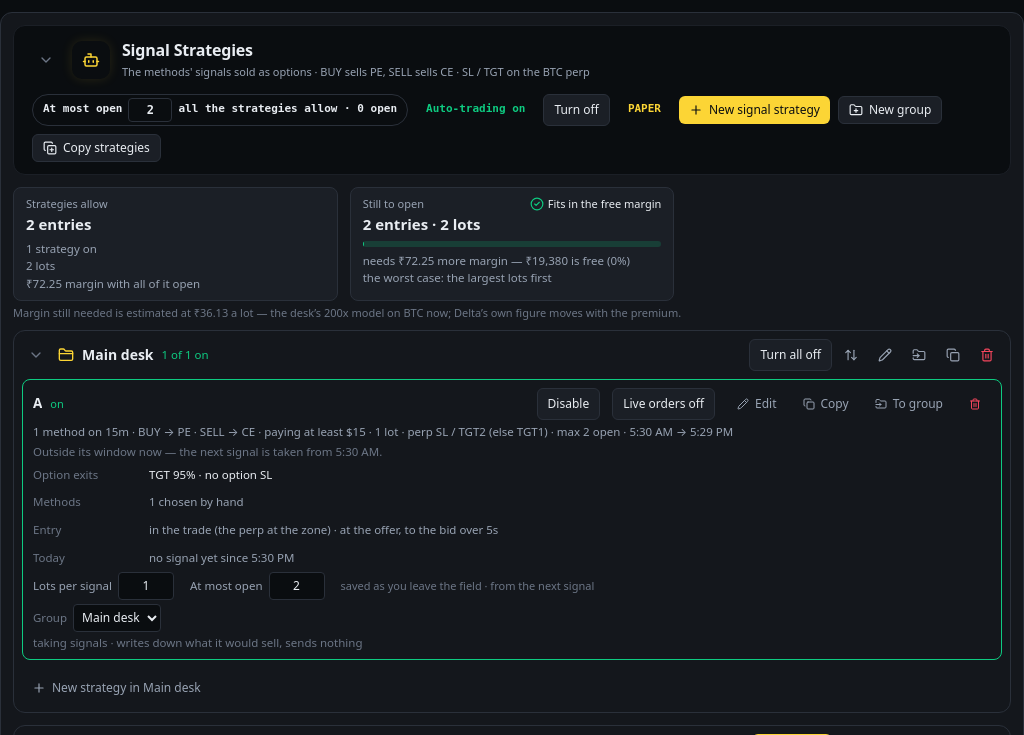
it: copying strategies into a group: from any account and group, into one that exists or a new one › [critical] several strategies of another account, a whole group picked at once, into a group that exists
Expected: the element named "group Main desk" is shown, [13,330,1011,713]
Click the button "Copy strategies" at x=96, y=148, box [32,134,161,162]
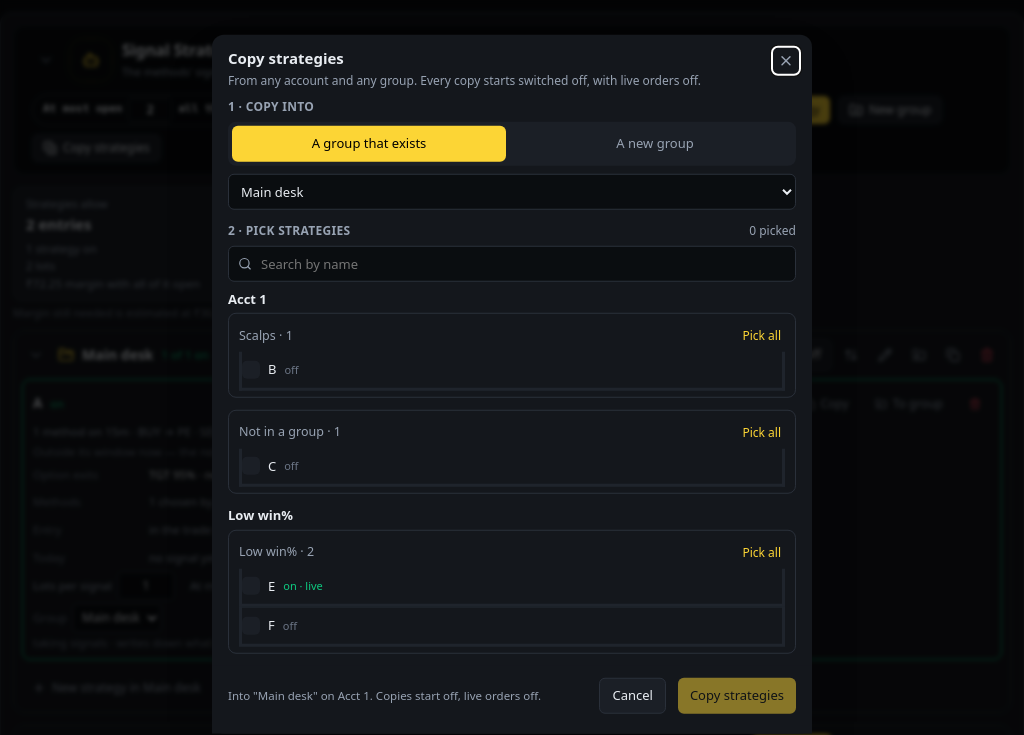
Now the dropdown named "Group to copy into" shows "Main desk"
Note: The shown account's first group is where it goes unless another is chosen.
Select "Scalps" in the dropdown named "Group to copy into" at x=512, y=191, box [228,173,796,209]
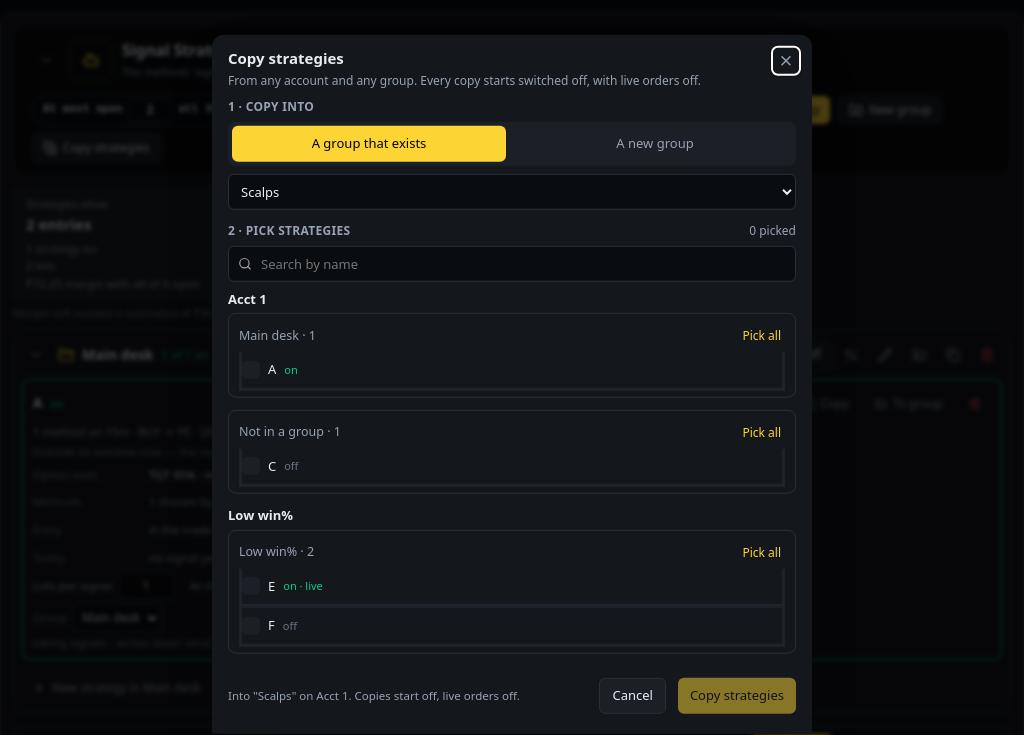
Click the button with aria-label "Pick all of Low win% (Low win%)" at x=762, y=552, box [738,536,785,568]
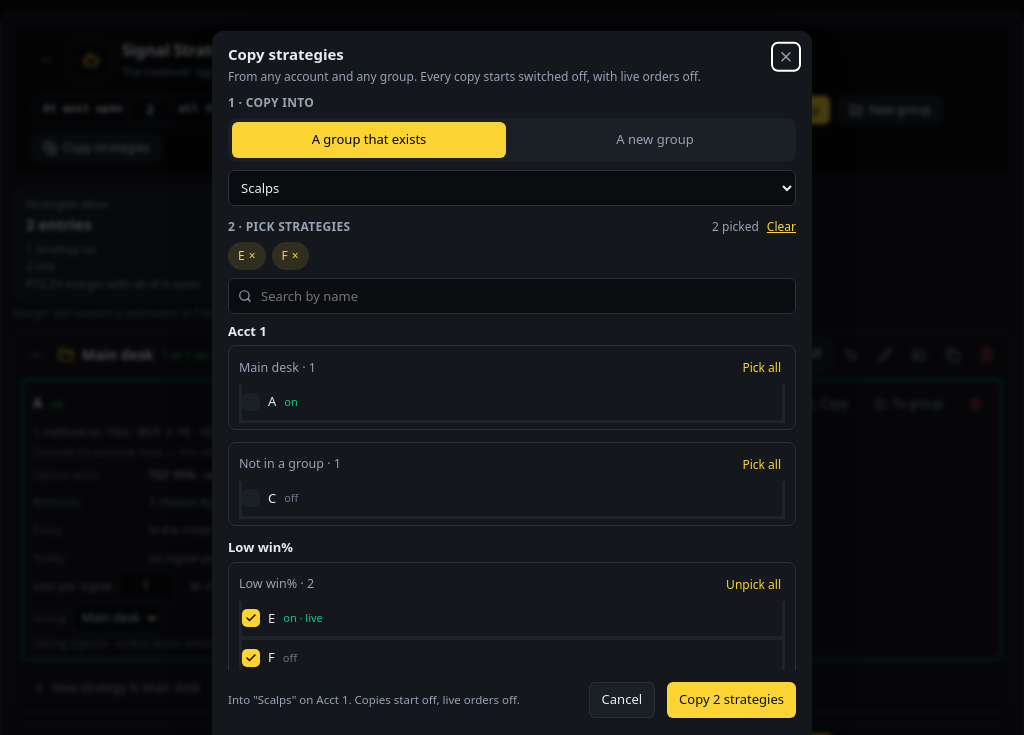
Now the element labelled "picked" shows "2 picked", box [712,217,796,235]
Now the checkbox named "Copy E (Low win%)" is checked, box [242,608,323,627]
Click the button "Copy 2 strategies" at x=732, y=699, box [667,681,796,717]
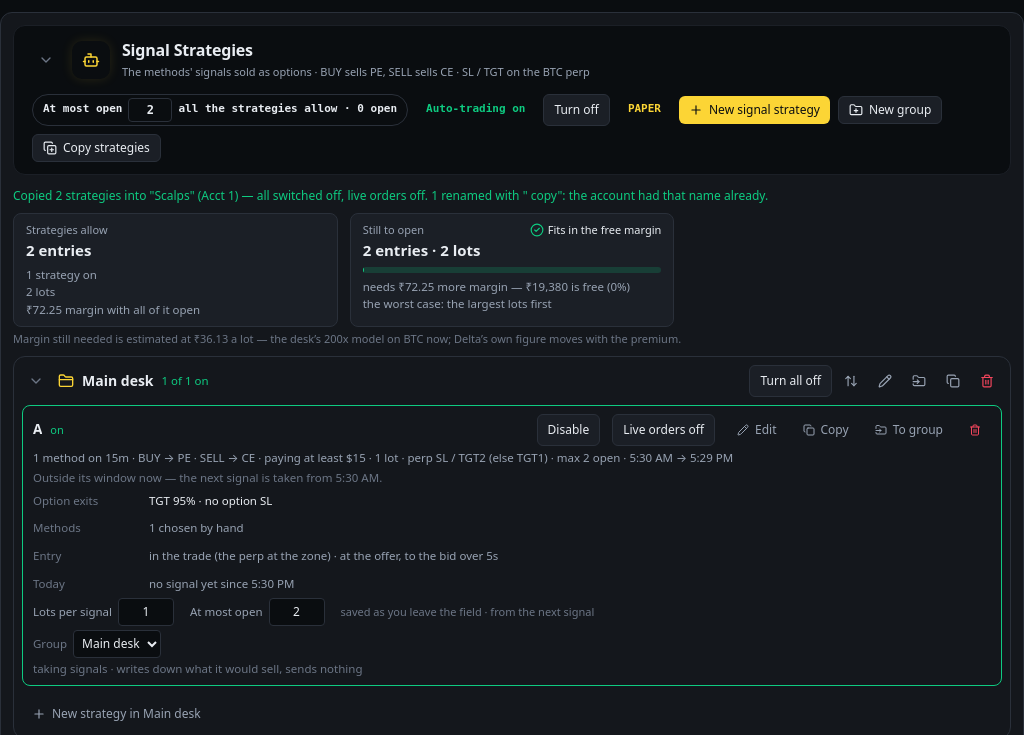
Now the text "Copied 2 strategies into \"Scalps\" (Acct 1) — all switched off, live orders off. 1 renamed with \" copy\"" is shown, box [13,186,768,204]
